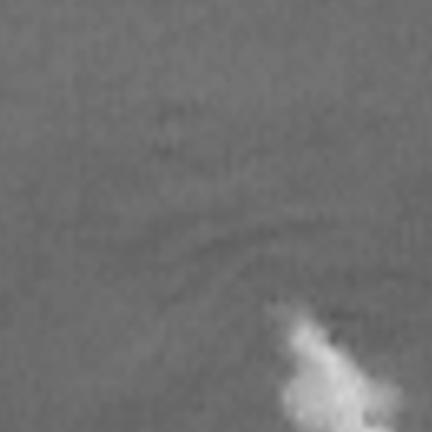flukeprints: (281, 305, 404, 431)
